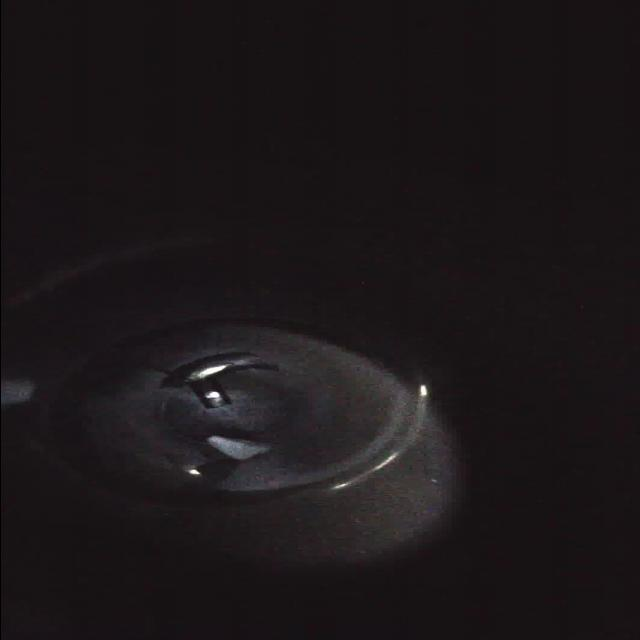impurity: (201, 428, 271, 466)
